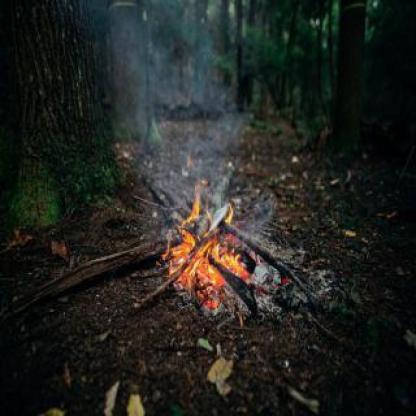fire: (161, 176, 244, 310)
